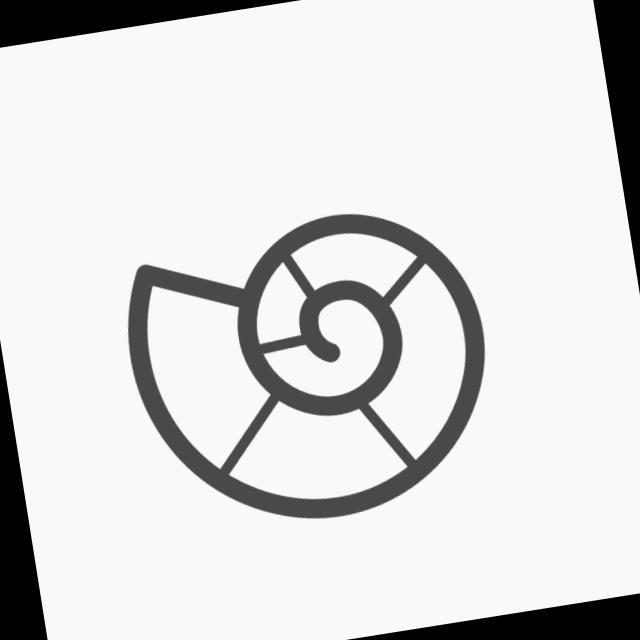fossil: (107, 188, 515, 552)
